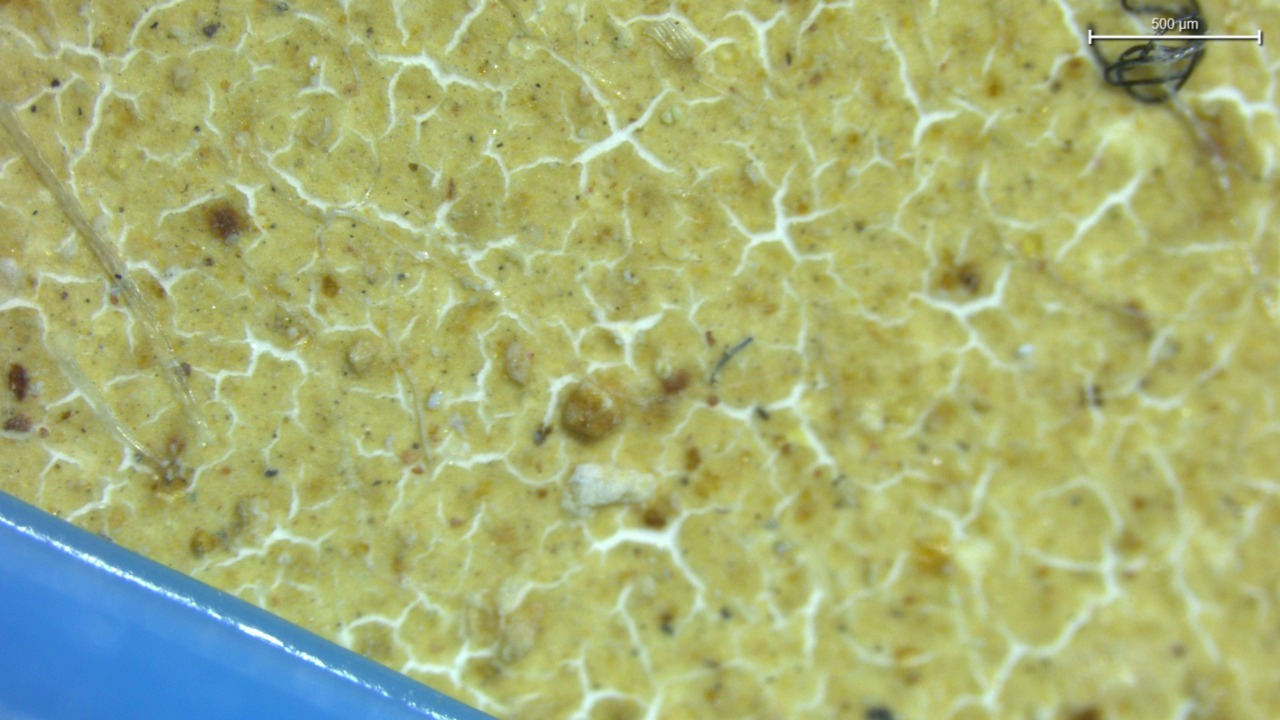microplastic_fragment: (567, 464, 653, 509)
